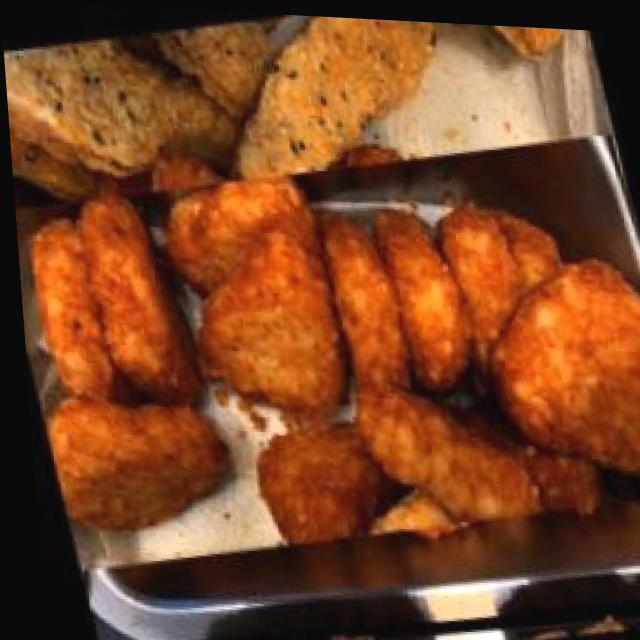triangle_hash_brown: (6, 100, 640, 594)
